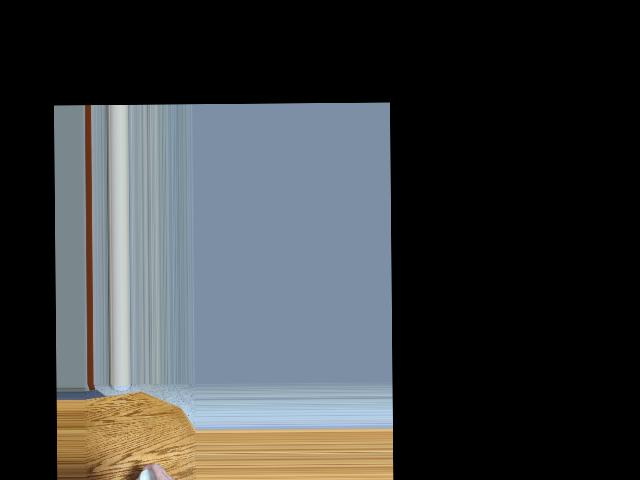cotage: (129, 463, 154, 480)
